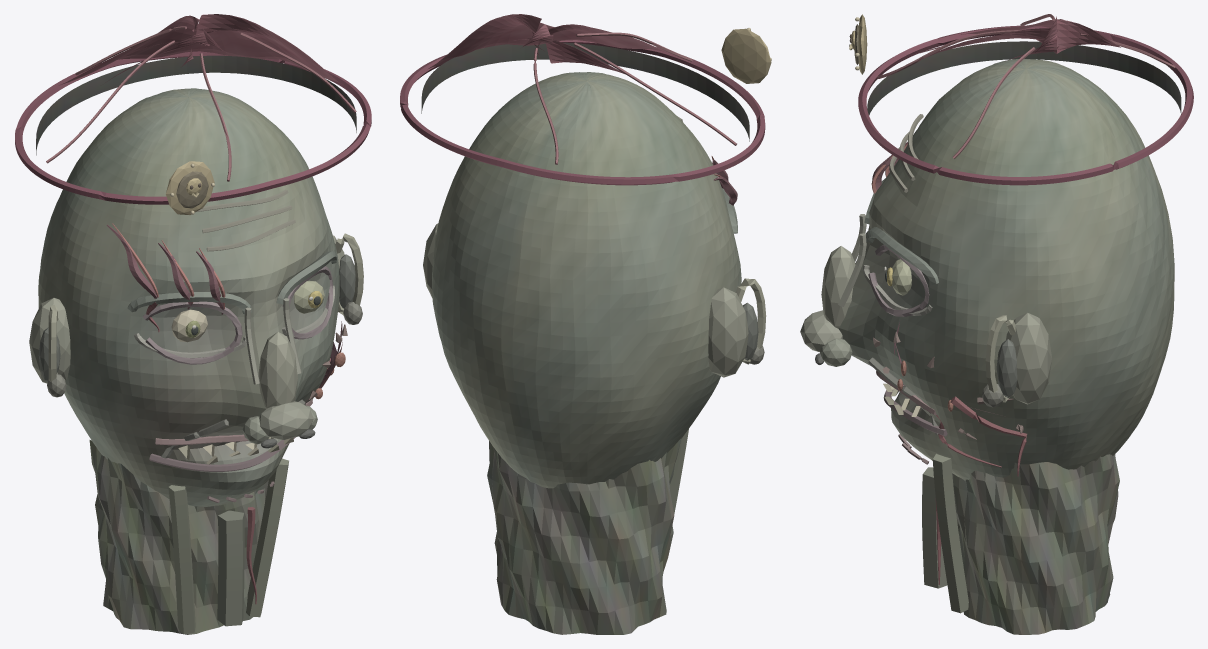
File: Zombie_Beret_Head_LOD.glb
The picture shows the model from 3 angles, left to right: view 1: azimuth 30°, elevation 25°; view 2: azimuth 150°, elevation 25°; view 3: azimuth 270°, elevation 25°; orthographic projection. The views are drawn at different scales.
Parts seen in each view (by area): view 1: 01_Skin_Sculpt, 02_Anatomy, 03_Skin_Folds, 22_Beret_Stitching, 21_Beret_Wool, 20_Beret_Leather_Band, 11_Necrosis, 05_Sockets_Dark, 23_Beret_Insignia, 06_Eye_Sclera, 12_Exposed_Flesh, 24_Beret_Insignia_Inner (+2 smaller); view 2: 01_Skin_Sculpt, 22_Beret_Stitching, 02_Anatomy, 20_Beret_Leather_Band, 21_Beret_Wool, 23_Beret_Insignia, 05_Sockets_Dark; view 3: 01_Skin_Sculpt, 02_Anatomy, 22_Beret_Stitching, 20_Beret_Leather_Band, 03_Skin_Folds, 21_Beret_Wool, 13_Dried_Blood, 05_Sockets_Dark, 11_Necrosis, 23_Beret_Insignia, 06_Eye_Sclera.
Boxes of the visible parts, x1,y1,x2,y2 form: 01_Skin_Sculpt: [38, 88, 339, 634]; 02_Anatomy: [29, 233, 363, 634]; 03_Skin_Folds: [127, 189, 336, 502]; 22_Beret_Stitching: [15, 26, 371, 204]; 21_Beret_Wool: [59, 14, 339, 85]; 20_Beret_Leather_Band: [36, 55, 356, 155]; 11_Necrosis: [106, 224, 347, 402]; 05_Sockets_Dark: [38, 254, 355, 448]; 23_Beret_Insignia: [166, 161, 214, 214]; 06_Eye_Sclera: [171, 280, 324, 342]; 12_Exposed_Flesh: [112, 223, 345, 399]; 24_Beret_Insignia_Inner: [176, 171, 208, 208]; 01_Skin_Sculpt: [432, 72, 741, 634]; 22_Beret_Stitching: [400, 32, 765, 185]; 02_Anatomy: [423, 223, 766, 573]; 20_Beret_Leather_Band: [421, 42, 749, 141]; 21_Beret_Wool: [428, 14, 668, 74]; 23_Beret_Insignia: [721, 28, 771, 83]; 05_Sockets_Dark: [742, 302, 758, 360]; 01_Skin_Sculpt: [838, 59, 1174, 634]; 02_Anatomy: [800, 246, 1052, 613]; 22_Beret_Stitching: [858, 14, 1193, 185]; 20_Beret_Leather_Band: [867, 41, 1181, 115]; 03_Skin_Folds: [838, 114, 947, 464]; 21_Beret_Wool: [912, 16, 1120, 61]; 13_Dried_Blood: [935, 396, 1027, 584]; 05_Sockets_Dark: [815, 339, 1017, 397]; 11_Necrosis: [872, 142, 1023, 439]; 23_Beret_Insignia: [849, 14, 867, 74]; 06_Eye_Sclera: [892, 259, 911, 295].
Size of the model in its own units: 0.2362 by 0.4026 by 0.2405.
